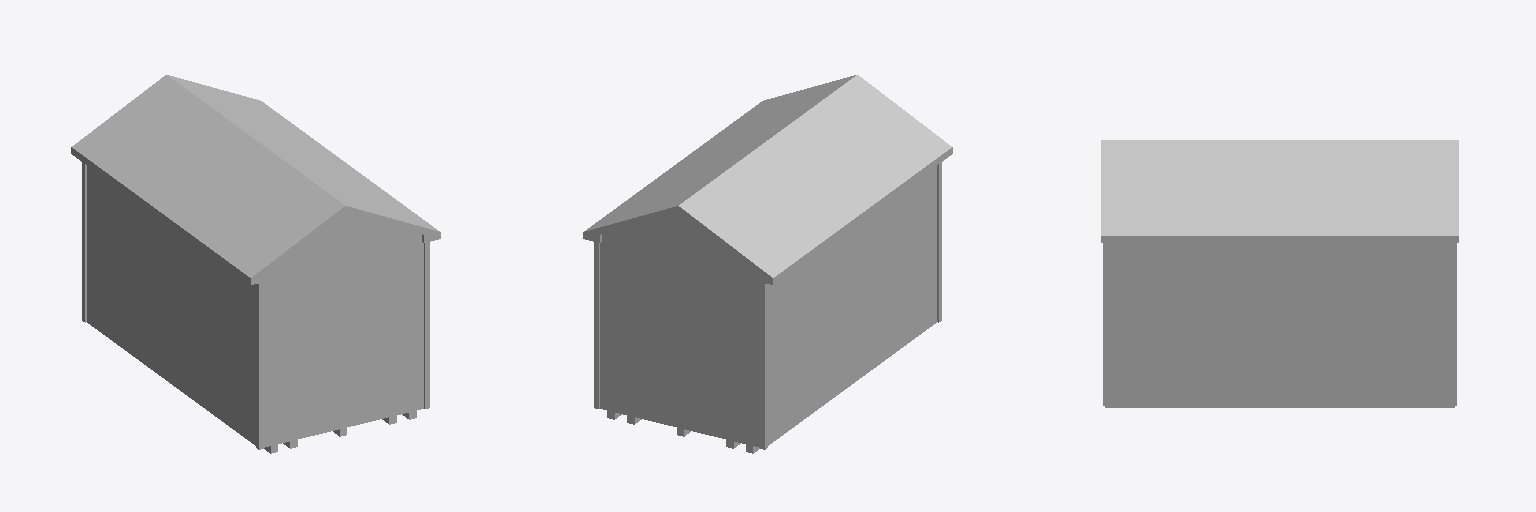
The model's file is 8 wide A-frame_7ft_8x14.obj.
The picture shows the model from 3 angles: view 1: azimuth 30°, elevation 25°; view 2: azimuth 150°, elevation 25°; view 3: azimuth 270°, elevation 25°; orthographic projection.
Visible parts, largest first — view 1: 8 wide A-frame_7ft_8x14.obj; view 2: 8 wide A-frame_7ft_8x14.obj; view 3: 8 wide A-frame_7ft_8x14.obj.
Part boxes in pixels (left/top/right/bottom): 8 wide A-frame_7ft_8x14.obj: left=71, top=75, right=440, bottom=453; 8 wide A-frame_7ft_8x14.obj: left=583, top=75, right=952, bottom=453; 8 wide A-frame_7ft_8x14.obj: left=1101, top=140, right=1458, bottom=407.
Size of the model in its own units: 2.67 by 3.12 by 4.37.